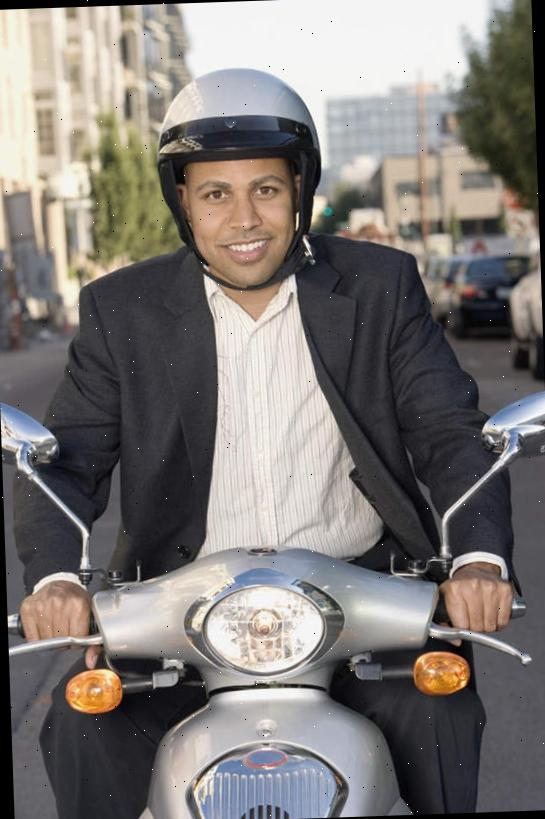helmet: (148, 58, 327, 182)
no_wear: (79, 247, 440, 578)
